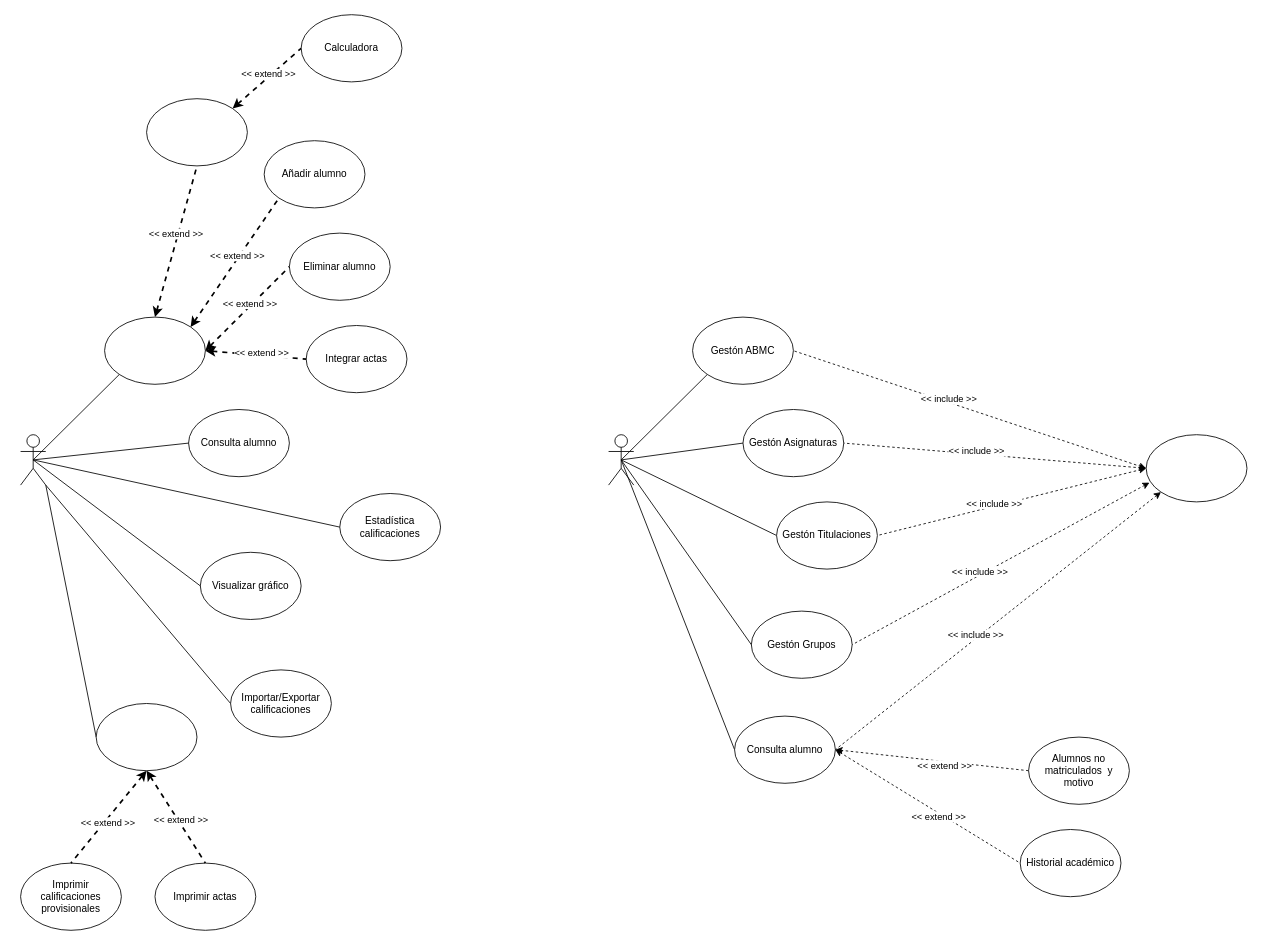
Image size: 1262x945. Some labels were removed from this diagram. Here are the shapes that lost their labels. From the top down, the centre of each, then its label:
the point at 196,132: Añadir nota
the point at 154,350: Gestón actas
the point at 33,459: Profesor
the point at 621,459: Administrador
the point at 1196,468: Autenticación
the point at 146,737: Imprimir
